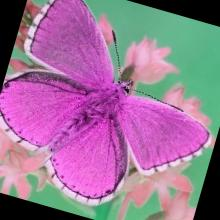butterfly: (0, 0, 211, 206)
